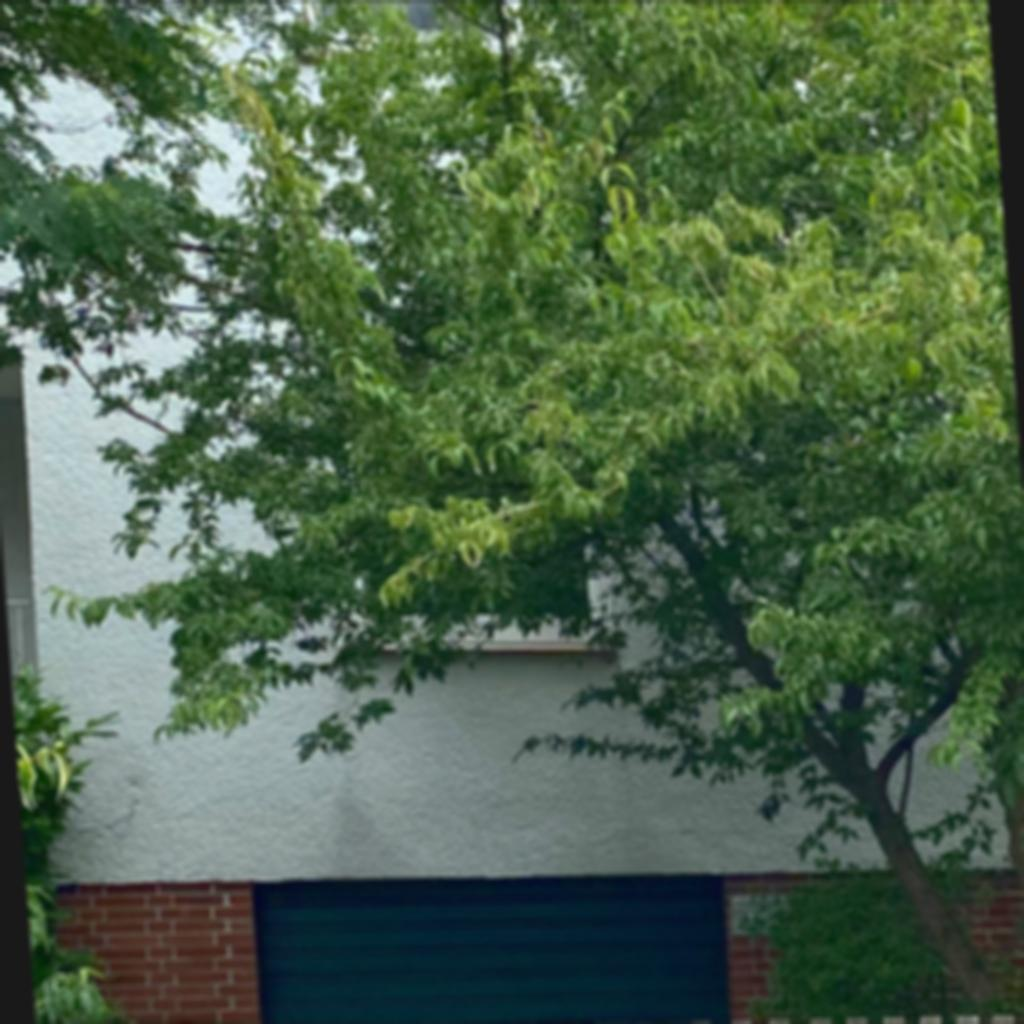tree: (33, 1, 1023, 1013), (1, 1, 401, 380)
